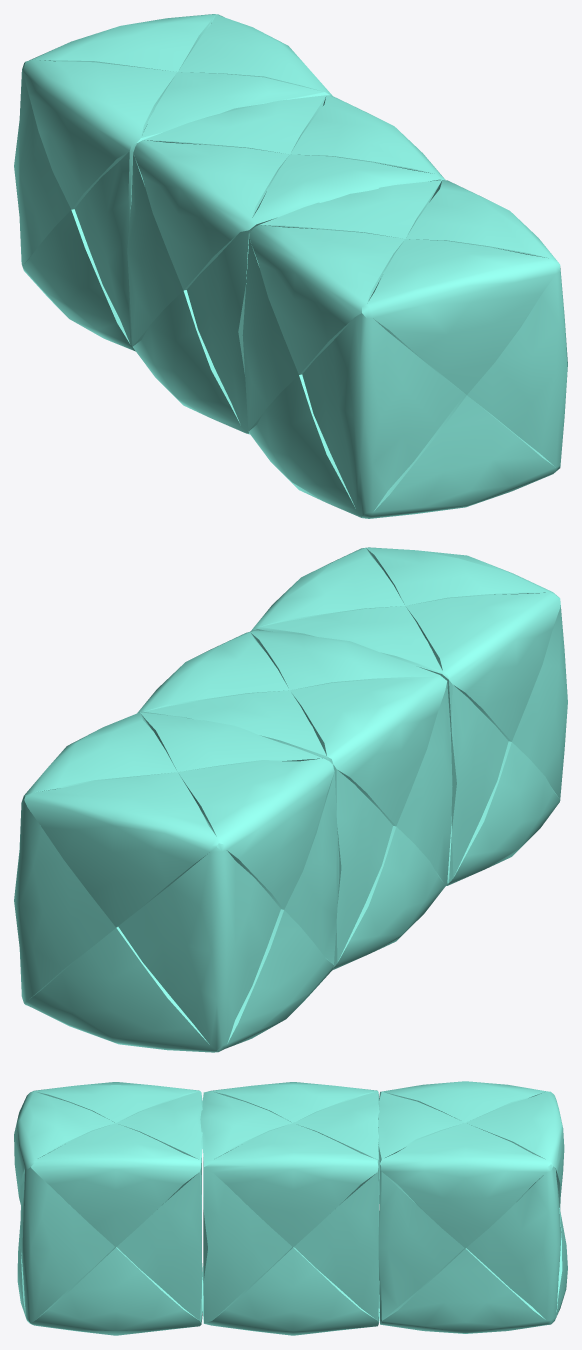
3 renders of one model, top to bottom at view 1: azimuth 30°, elevation 25°; view 2: azimuth 150°, elevation 25°; view 3: azimuth 270°, elevation 25°, orthographic. The views are drawn at different scales.
Parts seen in each view (by area): view 1: Cube.000; view 2: Cube.000; view 3: Cube.000.
Boxes of the visible parts, x1,y1,x2,y2 form: Cube.000: (14, 14, 567, 518); Cube.000: (14, 547, 567, 1052); Cube.000: (14, 1081, 567, 1335).
Size of the model in its own units: 231 by 227 by 623.
